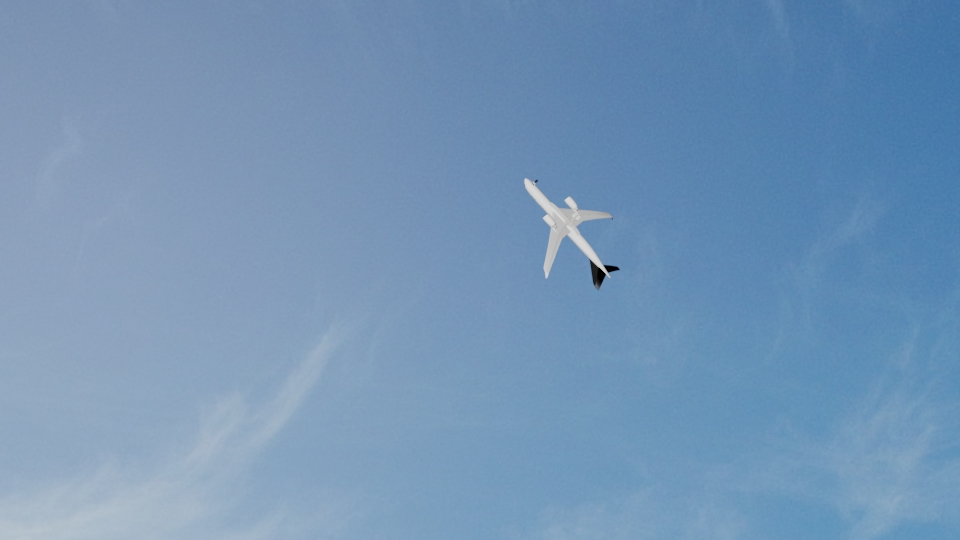plane: (521, 175, 621, 289)
